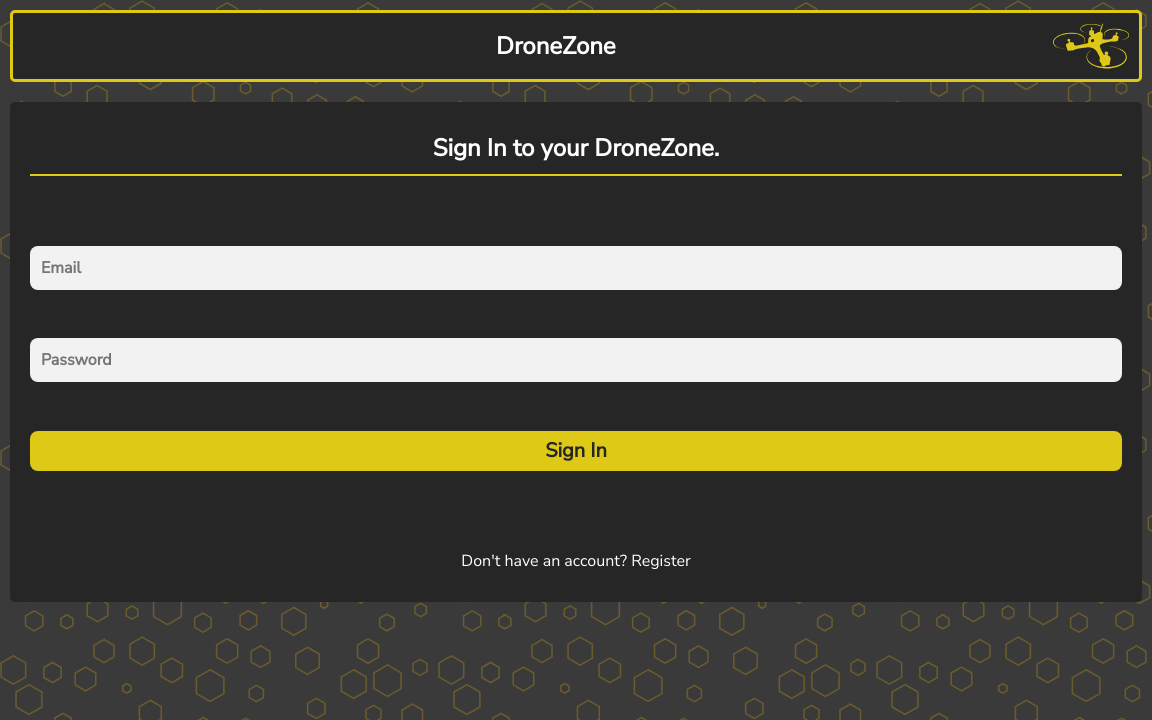
Test: Given the router › When the app renders, the user isn't logged in and clicks on the Link 'Register' › Then there should be a title 'Create an Account'
What coordinates should you click on to do the following:
click the link "Register"
I would click on:
 (661, 561)
Its box is [631, 550, 691, 572].
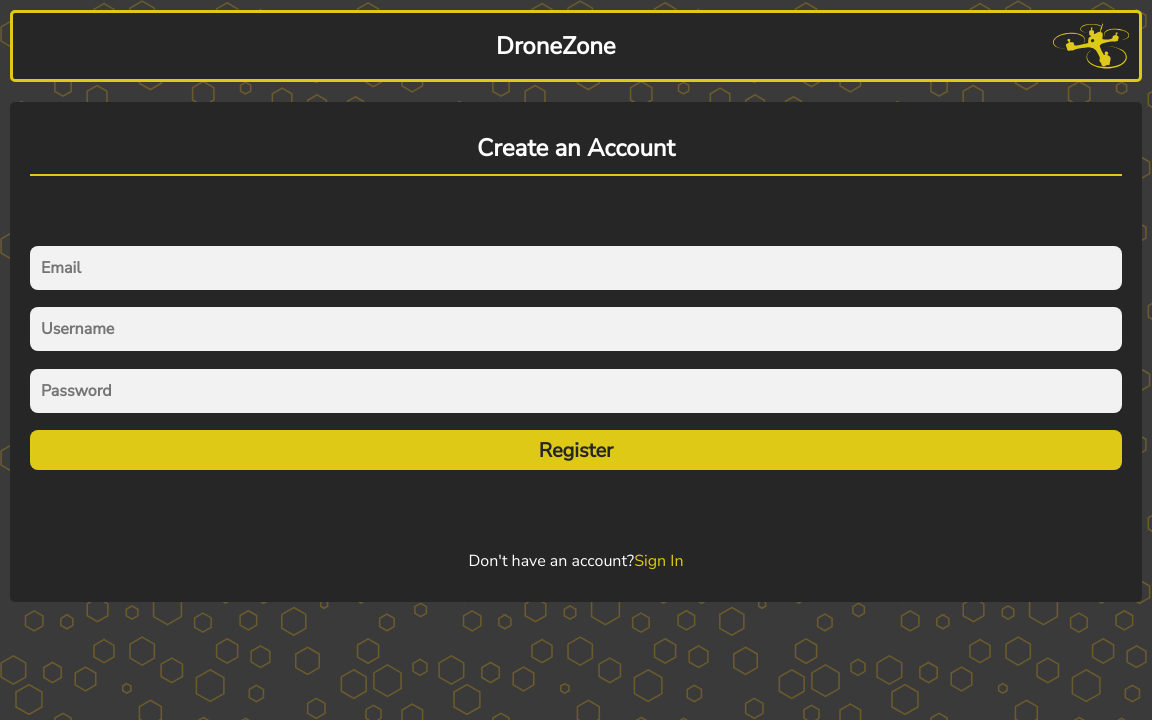
Expected: the heading "Create an Account" is shown, [477, 132, 675, 164]
